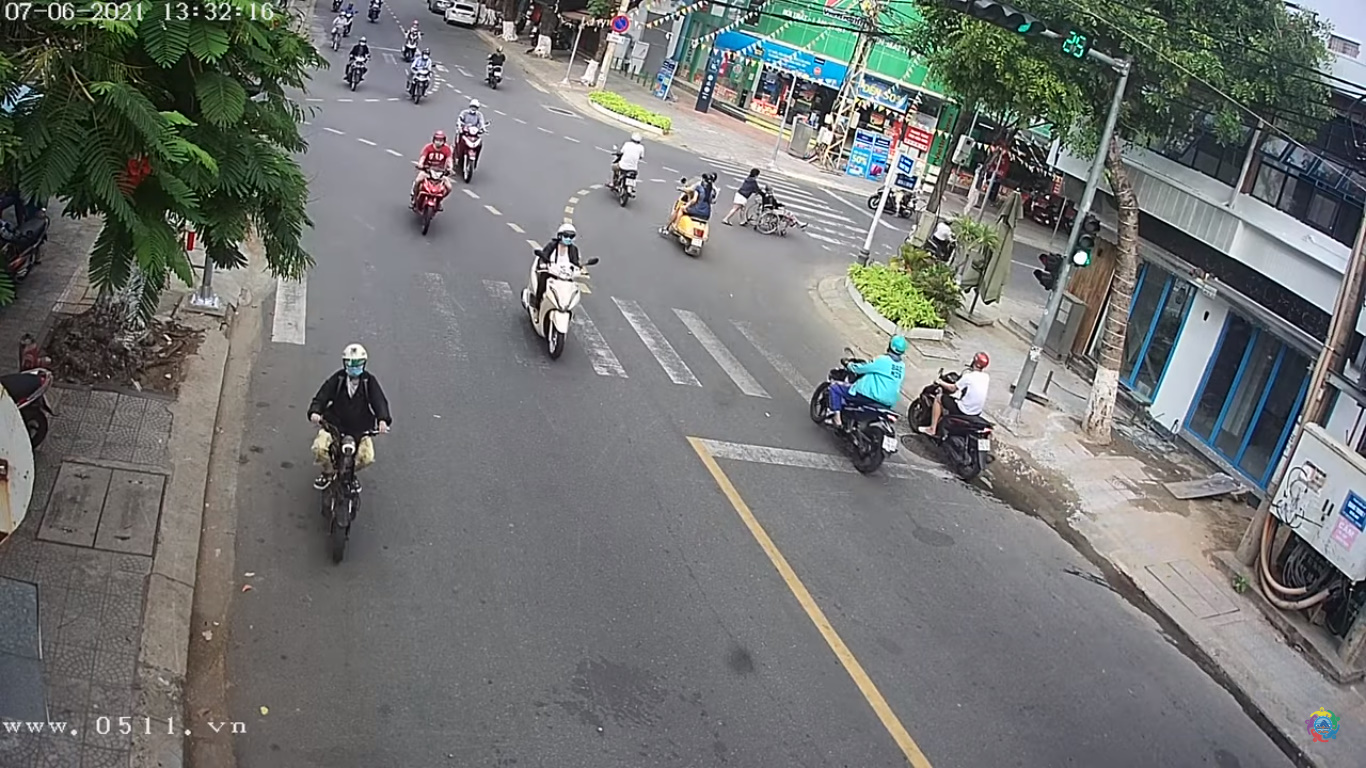motorbike: (305, 345, 392, 559), (519, 224, 600, 368), (414, 139, 456, 227), (458, 106, 489, 178)
